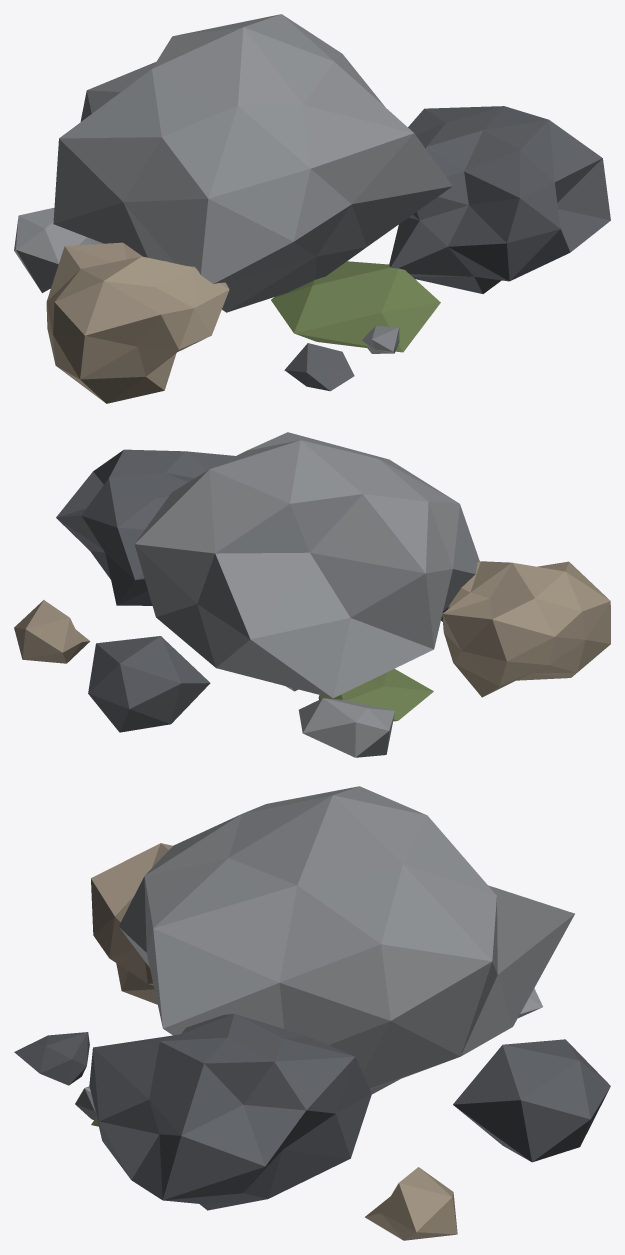
Rendered from low-poly-rocks.glb.
3 views of the same model, one above another, from view 1: azimuth 30°, elevation 25°; view 2: azimuth 150°, elevation 25°; view 3: azimuth 270°, elevation 25° (orthographic). The views are drawn at different scales.
Parts seen in each view (by area): view 1: boulder_hero, rock_1, rock_2, moss_patch_1, rock_4, pebble_6, pebble_7; view 2: boulder_hero, rock_2, rock_1, rock_3, rock_4, pebble_5, moss_patch_2; view 3: boulder_hero, rock_1, rock_3, rock_2, pebble_5, pebble_6.
Part boxes in pixels (<box>): boulder_hero: <box>53,14,452,312</box>; rock_1: <box>389,106,610,293</box>; rock_2: <box>46,242,229,403</box>; moss_patch_1: <box>271,261,440,352</box>; rock_4: <box>14,208,103,292</box>; pebble_6: <box>284,343,354,391</box>; pebble_7: <box>362,326,399,353</box>; boulder_hero: <box>134,432,479,698</box>; rock_2: <box>442,561,610,697</box>; rock_1: <box>56,449,235,605</box>; rock_3: <box>88,636,210,732</box>; rock_4: <box>298,698,394,757</box>; pebble_5: <box>14,600,90,663</box>; moss_patch_2: <box>318,669,433,721</box>; boulder_hero: <box>118,786,574,1094</box>; rock_1: <box>89,1013,371,1210</box>; rock_3: <box>453,1039,610,1162</box>; rock_2: <box>91,843,172,1004</box>; pebble_5: <box>365,1167,457,1240</box>; pebble_6: <box>14,1032,89,1085</box>.
Size of the model in its own units: 2.01 by 0.966 by 1.65.
